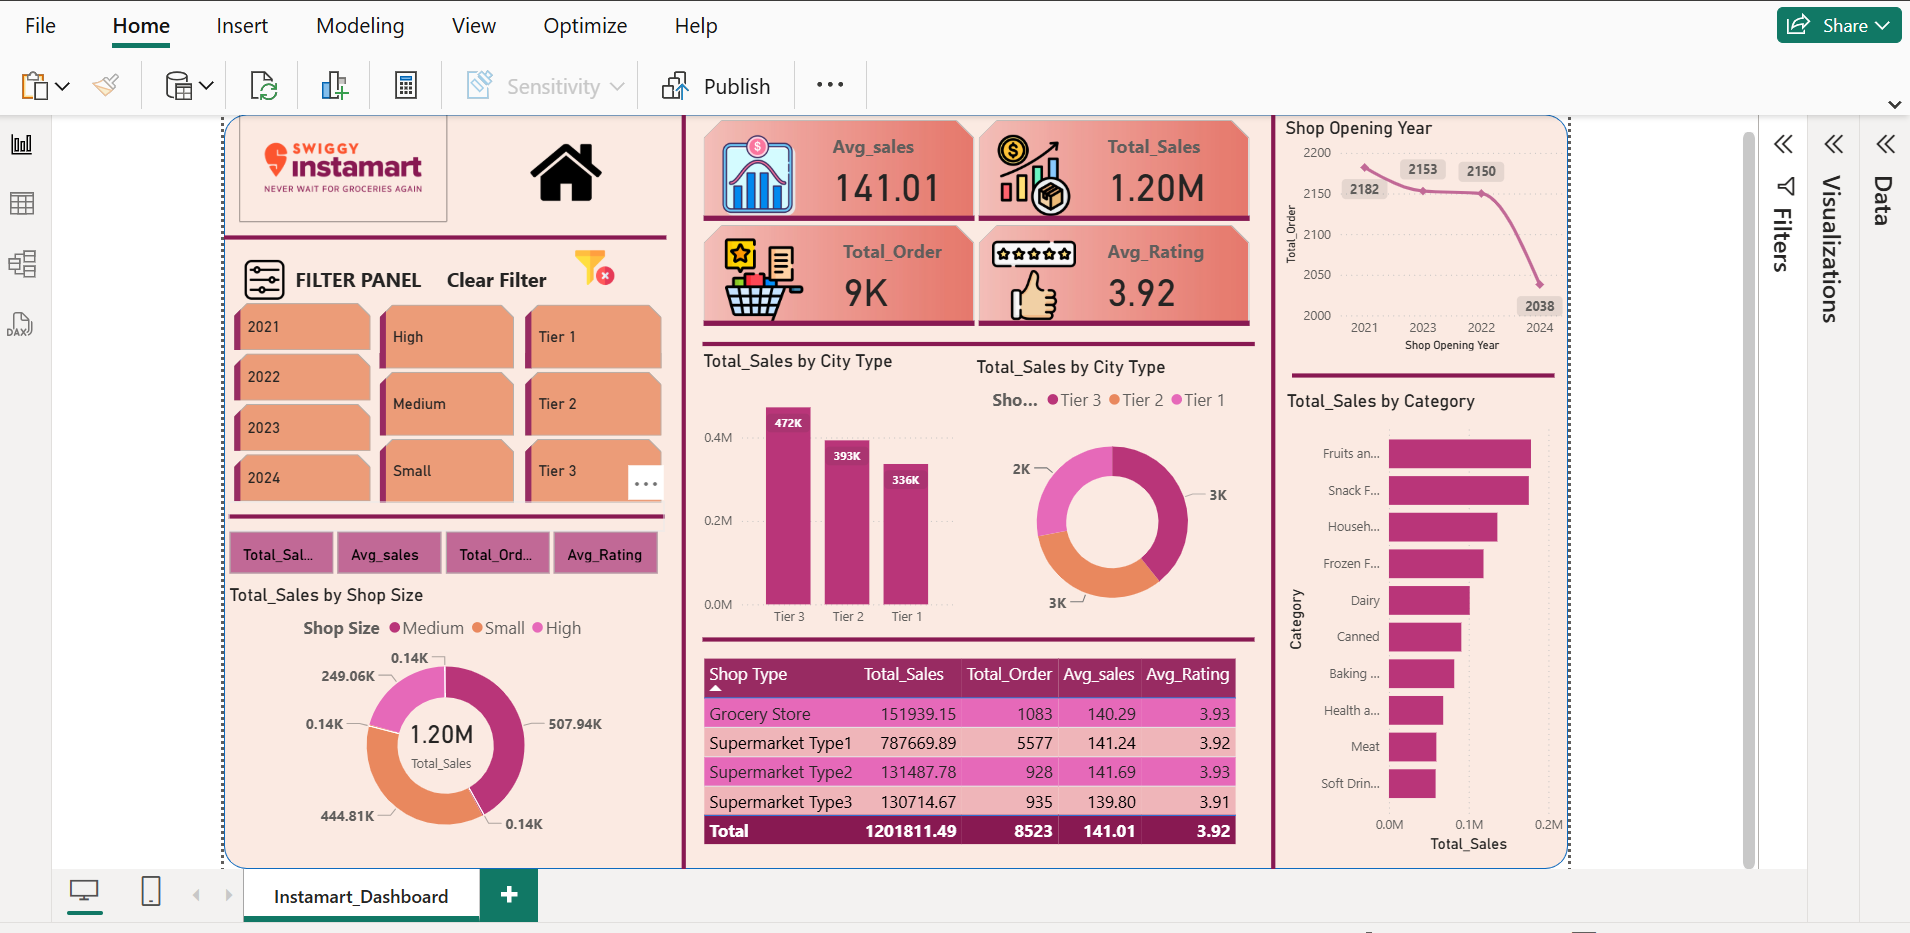

The page's visual inventory and layout, read from the dashboard file:
{"tool":"powerbi","page":{"name":"Instamart_Dashboard","canvas":[1280,720],"ordinal":0},"visuals":[{"type":"shape","box":[0,1.4,1280,718.6],"z":0},{"type":"image","box":[0,0,227.1,104.3],"z":1000},{"type":"cardVisual","fields":{"Data":["Grocery Shop.Avg_sales","Grocery Shop.Total_Sales","Grocery Shop.Total_Order","Grocery Shop.Avg_Rating"]},"box":[451.4,1,531.4,207.1],"z":2000},{"type":"advancedSlicerVisual","fields":{"Values":["Metric.Metric"]},"box":[0,398.6,421.4,40],"z":3000},{"type":"donutChart","title":"Total_Sales by Shop Size","fields":{"Y":["Grocery Shop.Total_Sales","Grocery Shop.Avg_sales","Grocery Shop.Total_Order","Grocery Shop.Avg_Rating"],"Category":["Grocery Shop.Shop Size"]},"box":[0,448.6,421.4,255.7],"z":4000},{"type":"card","fields":{"Values":["Grocery Shop.Total_Sales"]},"box":[140,565.7,132.9,65.7],"z":5000},{"type":"clusteredColumnChart","title":"Total_Sales by City Type","fields":{"Category":["Grocery Shop.Shop City Type"],"Y":["Grocery Shop.Total_Sales"]},"box":[451.4,225.2,248.6,271.9],"z":6000},{"type":"donutChart","title":"Total_Sales by City Type","fields":{"Category":["Grocery Shop.Shop City Type"],"Y":["Grocery Shop.Total_Order"]},"box":[711.4,231.4,268.6,264.3],"z":7000},{"type":"tableEx","fields":{"Values":["Grocery Shop.Shop Type","Grocery Shop.Total_Sales","Grocery Shop.Total_Order","Grocery Shop.Avg_sales","Grocery Shop.Avg_Rating"]},"box":[451.4,514.3,531.4,191.4],"z":8000},{"type":"lineChart","title":"Shop Opening Year","fields":{"Category":["Grocery Shop.Shop Opening Year"],"Y":["Grocery Shop.Total_Order"]},"box":[1005.7,4.3,274.3,227.1],"z":9000},{"type":"clusteredBarChart","fields":{"Y":["Grocery Shop.Total_Sales"],"Category":["Grocery Shop.Category"]},"box":[1007.1,264.3,272.9,444.3],"z":10000},{"type":"advancedSlicerVisual","fields":{"Values":["Grocery Shop.Shop Opening Year"]},"box":[3.8,175.2,140,200],"z":11000},{"type":"advancedSlicerVisual","fields":{"Values":["Grocery Shop.Shop Size"]},"box":[142.4,176.7,138.6,200],"z":12000},{"type":"advancedSlicerVisual","fields":{"Values":["Grocery Shop.Shop City Type"]},"box":[281,176.7,140,200],"z":13000},{"type":"image","box":[13.8,128.1,48.6,60],"z":14000},{"type":"textbox","box":[62.4,139.5,148.6,37.1],"z":15000},{"type":"textbox","box":[206.7,139.5,148.6,37.1],"z":16000},{"type":"image","box":[326.7,128.6,51.4,37.1],"z":17000},{"type":"image","box":[277.1,17.1,97.1,78.6],"z":18000},{"type":"shape","box":[0,104.3,421.4,28.6],"z":19000},{"type":"shape","box":[4.3,370,415.7,28.6],"z":20000},{"type":"shape","box":[1017.1,235.7,250,28.6],"z":21000},{"type":"shape","box":[455.2,205.7,526.2,28.6],"z":22000},{"type":"shape","box":[455.7,487.1,525.7,28.6],"z":23000},{"type":"shape","box":[981.4,0,35.7,720],"z":24000},{"type":"shape","box":[420,0,35.7,720],"z":25000}]}

Visuals, with their boxes on the page's 1280x720 design canvas (x1, y1, x2, y2). These are canvas units, not pixel positions in the 1910x933 screenshot, which may show the page scaled, cropped or inside an application window:
shape: region(0, 1, 1280, 720)
image: region(0, 0, 227, 104)
cardVisual - Grocery Shop.Avg_sales x Grocery Shop.Total_Sales: region(451, 1, 983, 208)
advancedSlicerVisual - Metric.Metric: region(0, 399, 421, 439)
"Total_Sales by Shop Size" donutChart: region(0, 449, 421, 704)
card - Grocery Shop.Total_Sales: region(140, 566, 273, 631)
"Total_Sales by City Type" clusteredColumnChart: region(451, 225, 700, 497)
"Total_Sales by City Type" donutChart: region(711, 231, 980, 496)
tableEx - Grocery Shop.Shop Type x Grocery Shop.Total_Sales: region(451, 514, 983, 706)
"Shop Opening Year" lineChart: region(1006, 4, 1280, 231)
clusteredBarChart - Grocery Shop.Total_Sales x Grocery Shop.Category: region(1007, 264, 1280, 709)
advancedSlicerVisual - Grocery Shop.Shop Opening Year: region(4, 175, 144, 375)
advancedSlicerVisual - Grocery Shop.Shop Size: region(142, 177, 281, 377)
advancedSlicerVisual - Grocery Shop.Shop City Type: region(281, 177, 421, 377)
image: region(14, 128, 62, 188)
textbox: region(62, 140, 211, 177)
textbox: region(207, 140, 355, 177)
image: region(327, 129, 378, 166)
image: region(277, 17, 374, 96)
shape: region(0, 104, 421, 133)
shape: region(4, 370, 420, 399)
shape: region(1017, 236, 1267, 264)
shape: region(455, 206, 981, 234)
shape: region(456, 487, 981, 516)
shape: region(981, 0, 1017, 720)
shape: region(420, 0, 456, 720)
